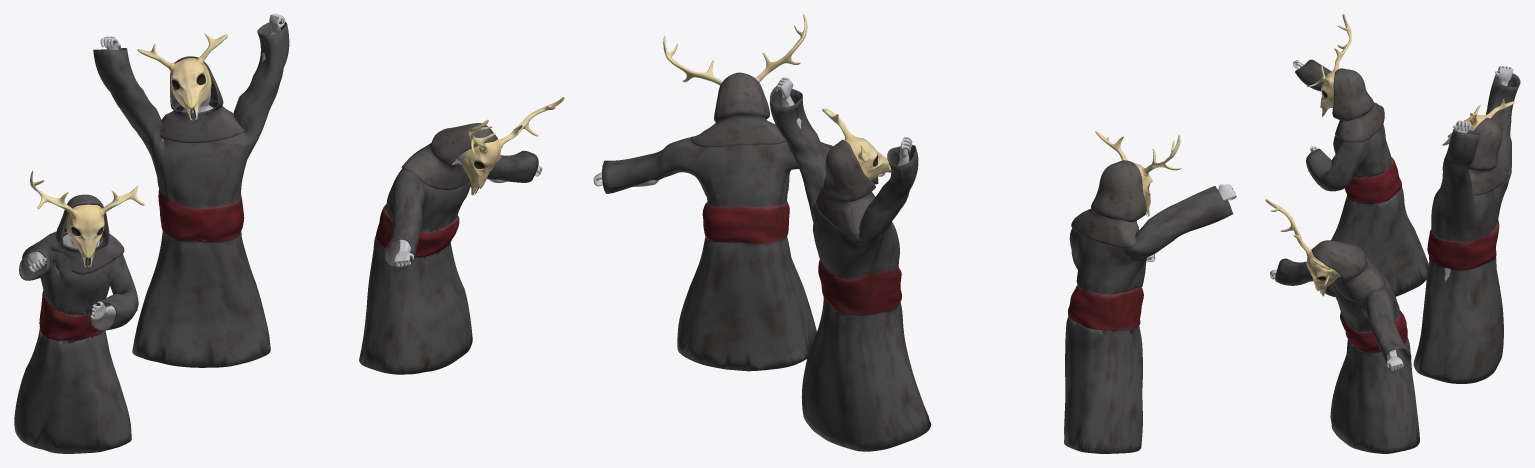
The model's file is sectarios.glb.
The picture shows the model from 3 angles, left to right: view 1: azimuth 30°, elevation 25°; view 2: azimuth 150°, elevation 25°; view 3: azimuth 270°, elevation 25°; orthographic projection. The views are drawn at different scales.
Parts seen in each view (by area): view 1: TunicaBase.002, TunicaBase.001, TunicaBase, Capucha, Capucha.002, MascaraCiervo.001, MascaraCiervo.002, Capucha.001, MascaraCiervo, Cuerpo.001, Cuerpo.002, Cuerpo; view 2: TunicaBase.002, TunicaBase, TunicaBase.001, Capucha.001, Capucha, Capucha.002, MascaraCiervo.002, MascaraCiervo, MascaraCiervo.001, Cuerpo.002; view 3: TunicaBase.002, TunicaBase, TunicaBase.001, Capucha.001, Capucha, Capucha.002, MascaraCiervo, MascaraCiervo.001, Cuerpo.002, MascaraCiervo.002, Cuerpo.
Part boxes in pixels (box(x1,y1,x2,y2)): TunicaBase.002: box(93, 21, 289, 367); TunicaBase.001: box(14, 231, 138, 453); TunicaBase: box(359, 150, 538, 374); Capucha: box(401, 123, 497, 190); Capucha.002: box(160, 56, 245, 142); MascaraCiervo.001: box(30, 170, 144, 267); MascaraCiervo.002: box(137, 33, 227, 120); Capucha.001: box(34, 194, 124, 274); MascaraCiervo: box(461, 97, 564, 195); Cuerpo.001: box(27, 233, 115, 319); Cuerpo.002: box(100, 14, 285, 141); Cuerpo: box(394, 151, 542, 267); TunicaBase.002: box(770, 87, 931, 451); TunicaBase: box(602, 137, 878, 371); TunicaBase.001: box(1064, 186, 1233, 453); Capucha.001: box(1071, 160, 1146, 248); Capucha: box(690, 72, 785, 147); Capucha.002: box(815, 139, 875, 235); MascaraCiervo.002: box(822, 108, 891, 179); MascaraCiervo: box(663, 14, 807, 85); MascaraCiervo.001: box(1095, 131, 1181, 216); Cuerpo.002: box(775, 77, 912, 165); TunicaBase.002: box(1413, 71, 1520, 383); TunicaBase: box(1275, 258, 1419, 453); TunicaBase.001: box(1295, 59, 1428, 297); Capucha.001: box(1332, 68, 1384, 142); Capucha: box(1311, 240, 1385, 301); Capucha.002: box(1468, 118, 1508, 195); MascaraCiervo: box(1265, 199, 1337, 296); MascaraCiervo.001: box(1306, 14, 1351, 116); Cuerpo.002: box(1444, 66, 1513, 281); MascaraCiervo.002: box(1442, 99, 1514, 145); Cuerpo: box(1270, 269, 1403, 370).
Bounding box in the file's own units: 4.33 × 2.35 × 1.96.
4 materials, 4 textured.
